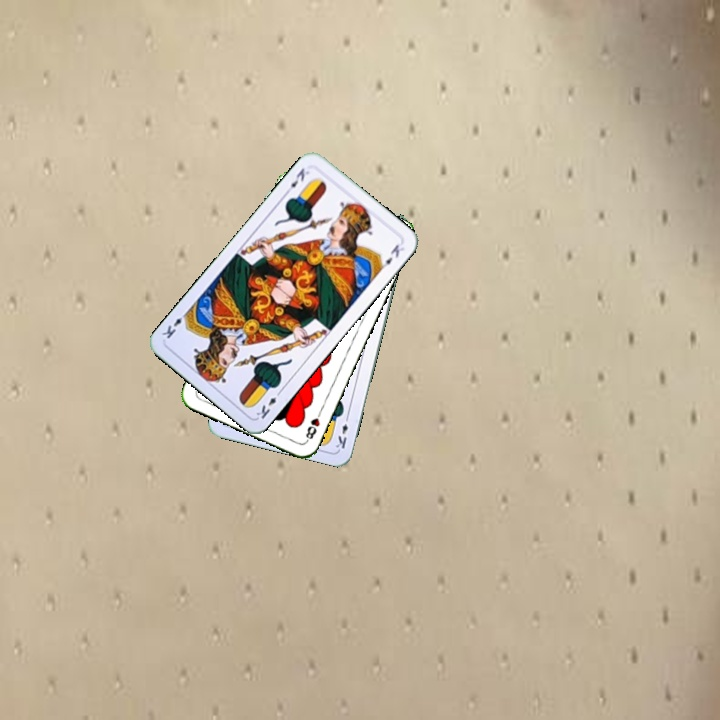EK: (252, 386, 285, 421), (281, 164, 312, 197), (331, 411, 352, 451)
H8: (302, 406, 324, 444)
